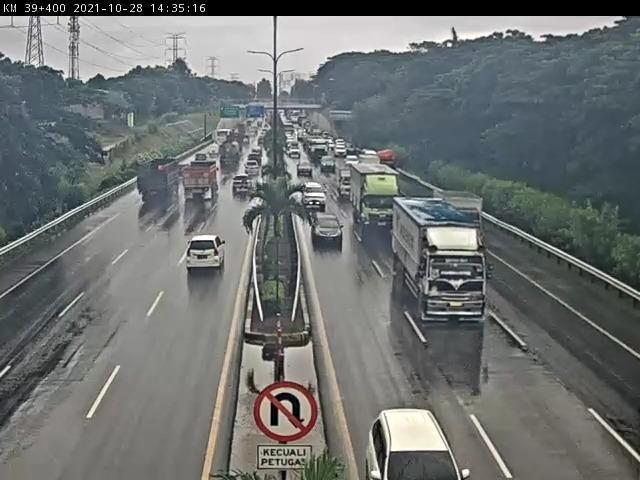bus: (215, 130, 227, 145)
car: (377, 387, 441, 480), (178, 236, 225, 282), (307, 205, 343, 233), (301, 177, 325, 202), (229, 181, 249, 201), (335, 168, 349, 191), (297, 160, 313, 175), (291, 143, 303, 161), (319, 156, 333, 171), (243, 168, 256, 183), (204, 146, 214, 161), (189, 157, 201, 169), (250, 158, 261, 169), (336, 145, 344, 155)
truck: (401, 193, 499, 334), (348, 159, 395, 217), (134, 150, 174, 205), (179, 166, 213, 210), (219, 144, 237, 168), (309, 140, 329, 155), (229, 136, 241, 150)
